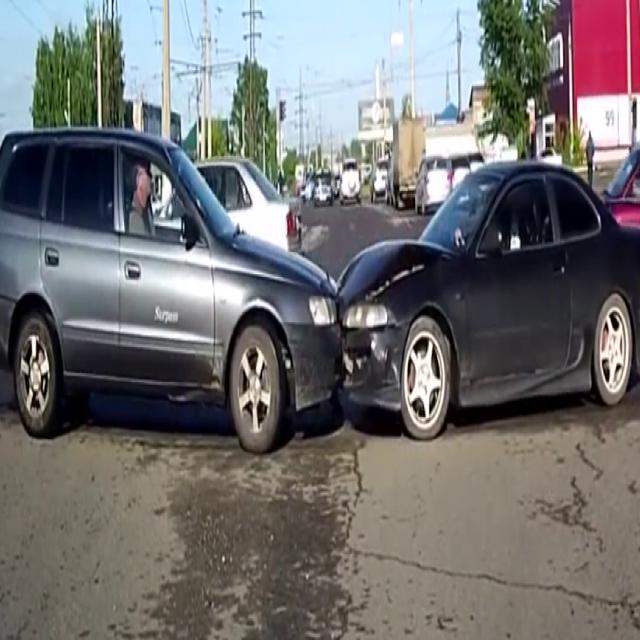accident: (100, 118, 591, 495)
